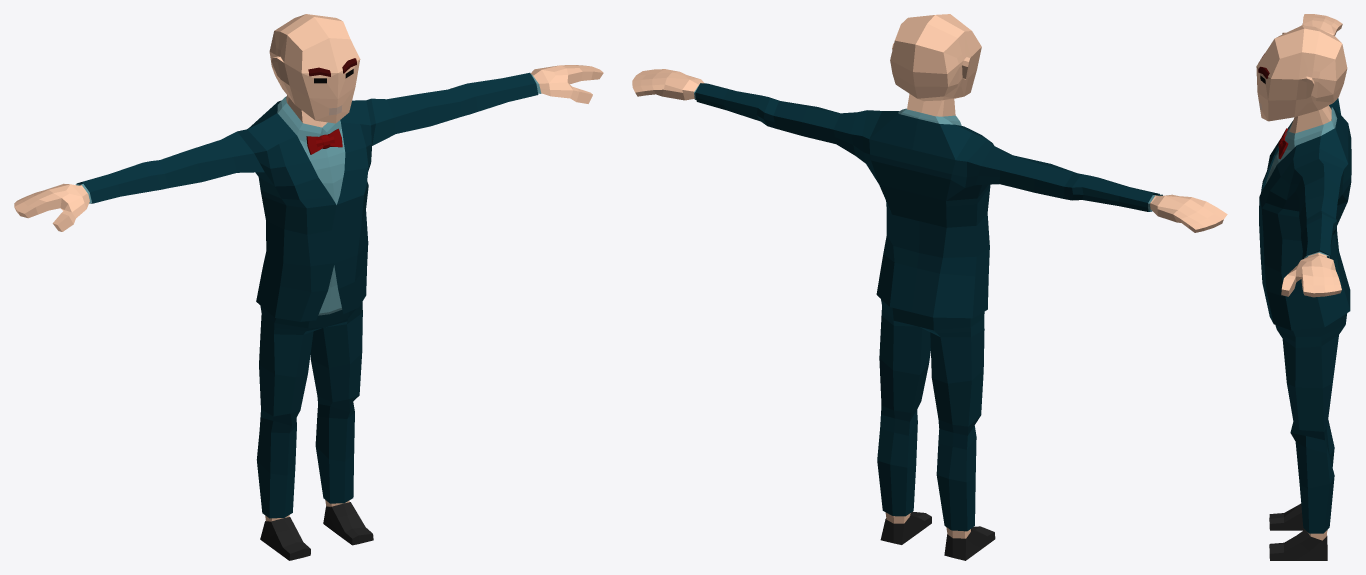
File: NPC_TrajeAul_Escenario2.fbx
3 views of the same model, side by side, from view 1: azimuth 30°, elevation 25°; view 2: azimuth 150°, elevation 25°; view 3: azimuth 270°, elevation 25° (orthographic). The views are drawn at different scales.
Visible parts, largest first — view 1: Personaje; view 2: Personaje; view 3: Personaje.
Part boxes in pixels (x1,y1,x2,y2): Personaje: (14, 14, 603, 560); Personaje: (632, 14, 1227, 560); Personaje: (1256, 14, 1351, 560).
Bounding box in the file's own units: 215 × 184 × 30.94.
